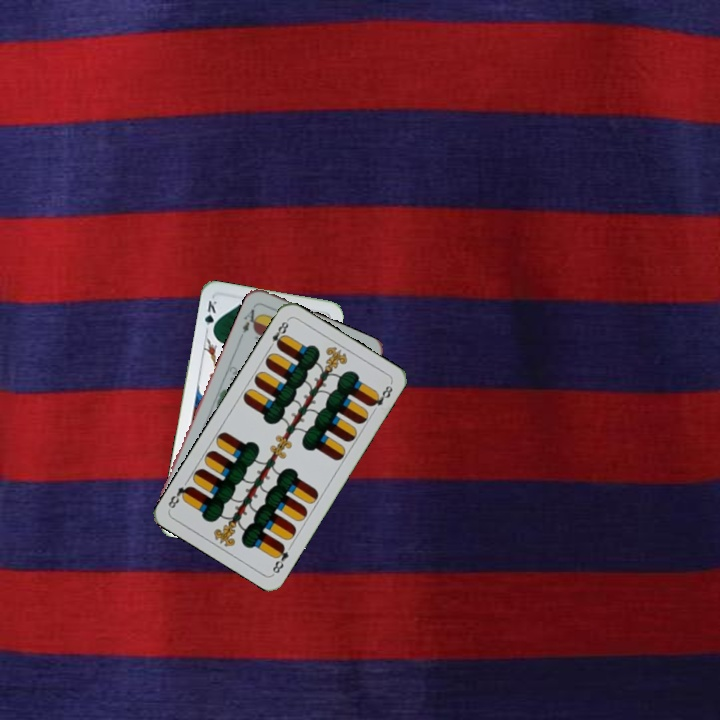E8: (264, 316, 291, 352), (268, 540, 291, 576)
EA: (238, 301, 263, 335)
GK: (201, 296, 219, 336)
